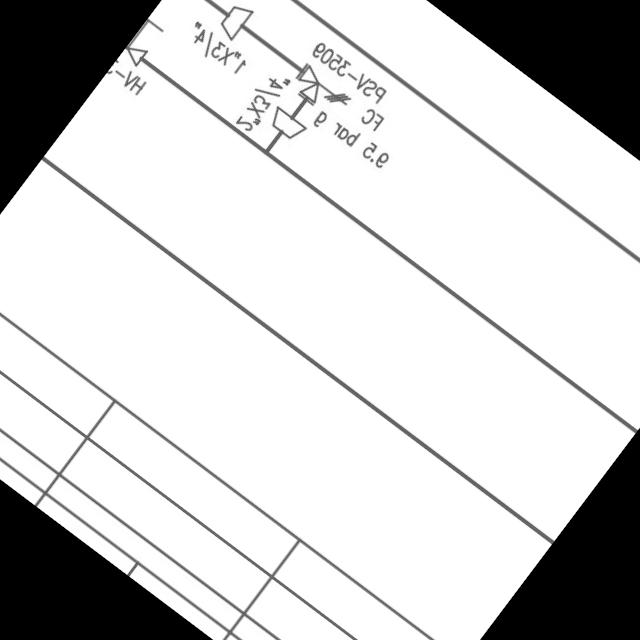RPV: (280, 56, 360, 130)
SP: (262, 100, 312, 148), (210, 0, 260, 45)
